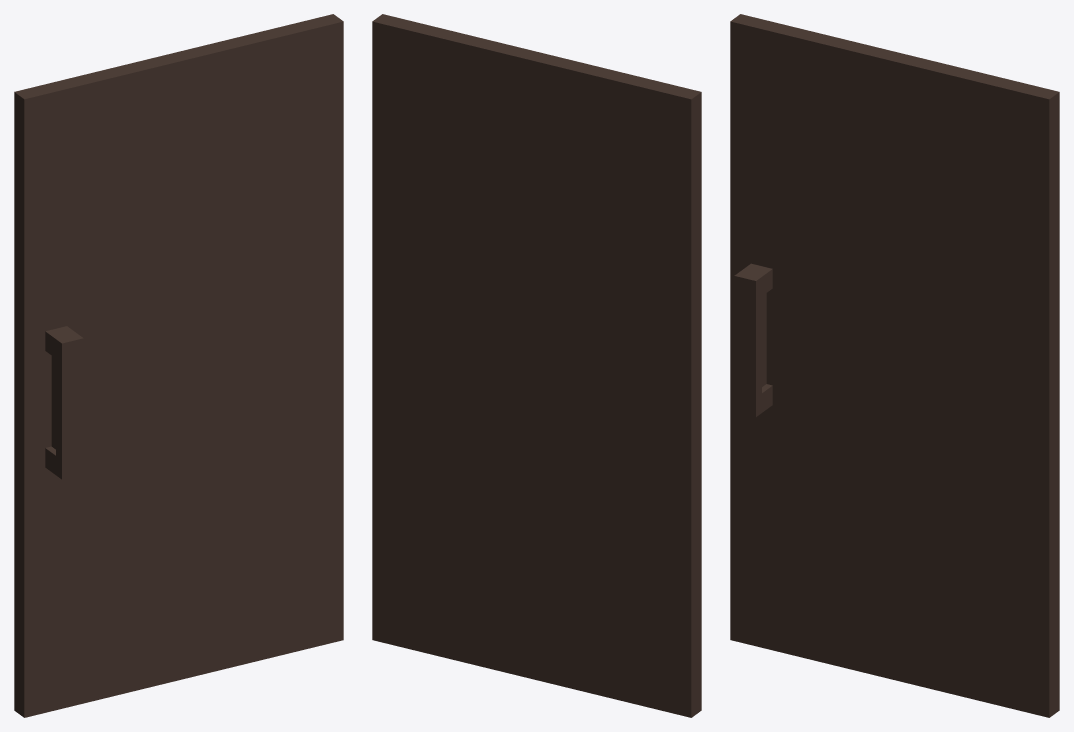
The model's file is Itr_Shelf1_Door_Right_06.FBX.
The picture shows the model from 3 angles, left to right: view 1: azimuth 30°, elevation 25°; view 2: azimuth 150°, elevation 25°; view 3: azimuth 330°, elevation 25°; orthographic projection.
Visible parts, largest first — view 1: Itr_Shelf1_Door_Right_06; view 2: Itr_Shelf1_Door_Right_06; view 3: Itr_Shelf1_Door_Right_06.
Boxes of the visible parts, left/top/right/bottom form: Itr_Shelf1_Door_Right_06: left=14, top=14, right=343, bottom=717; Itr_Shelf1_Door_Right_06: left=372, top=14, right=701, bottom=717; Itr_Shelf1_Door_Right_06: left=730, top=14, right=1059, bottom=717.
Size of the model in its own units: 22.1 by 40.92 by 3.23.
